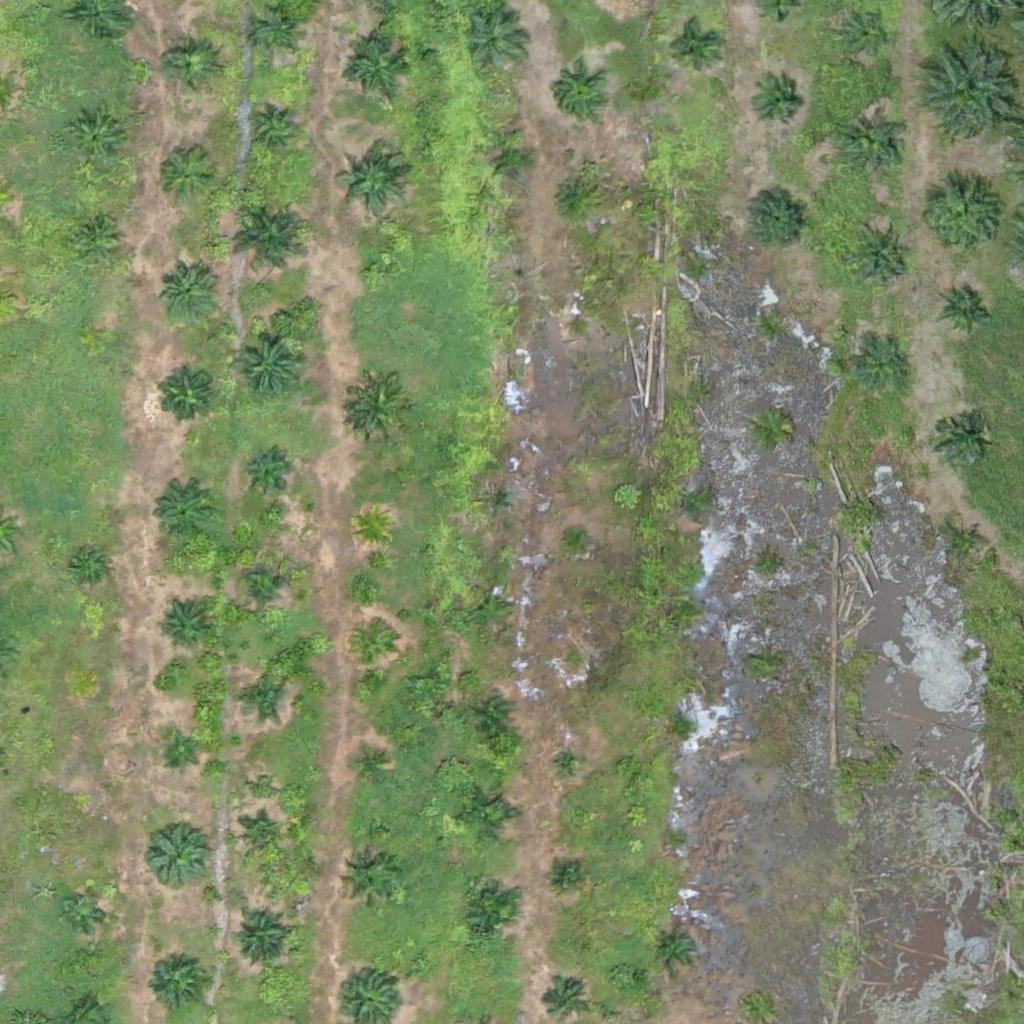Kelapa_Sawit: (913, 51, 1013, 151), (915, 174, 1002, 262), (227, 194, 314, 282), (335, 145, 410, 221), (230, 325, 305, 400), (144, 821, 207, 884), (153, 143, 216, 206), (156, 260, 219, 323), (850, 226, 913, 289), (464, 9, 527, 72), (745, 185, 808, 248), (347, 377, 410, 440), (67, 109, 130, 172), (145, 948, 207, 1011), (150, 480, 212, 543), (154, 363, 216, 426), (844, 116, 906, 179), (347, 37, 409, 100), (228, 905, 290, 968), (338, 849, 400, 912), (458, 882, 520, 945), (938, 278, 1000, 341), (457, 783, 519, 846), (156, 601, 206, 652), (667, 22, 717, 73), (751, 76, 801, 127), (233, 671, 283, 722), (485, 135, 535, 186), (547, 170, 597, 221), (165, 42, 215, 92), (237, 451, 287, 501), (857, 345, 907, 395), (933, 409, 983, 459), (552, 68, 602, 118), (70, 210, 120, 260), (838, 7, 888, 57), (653, 923, 703, 973), (234, 814, 284, 864), (238, 565, 288, 615), (246, 103, 295, 154), (950, 523, 988, 561), (353, 508, 391, 546), (551, 745, 589, 783), (475, 697, 513, 735), (355, 630, 393, 668), (354, 750, 392, 788), (471, 588, 509, 626), (70, 551, 108, 589), (256, 12, 293, 50), (480, 482, 517, 520), (161, 734, 198, 772), (64, 890, 101, 927), (553, 861, 578, 887), (565, 522, 590, 547), (562, 313, 587, 338), (363, 260, 388, 285)
